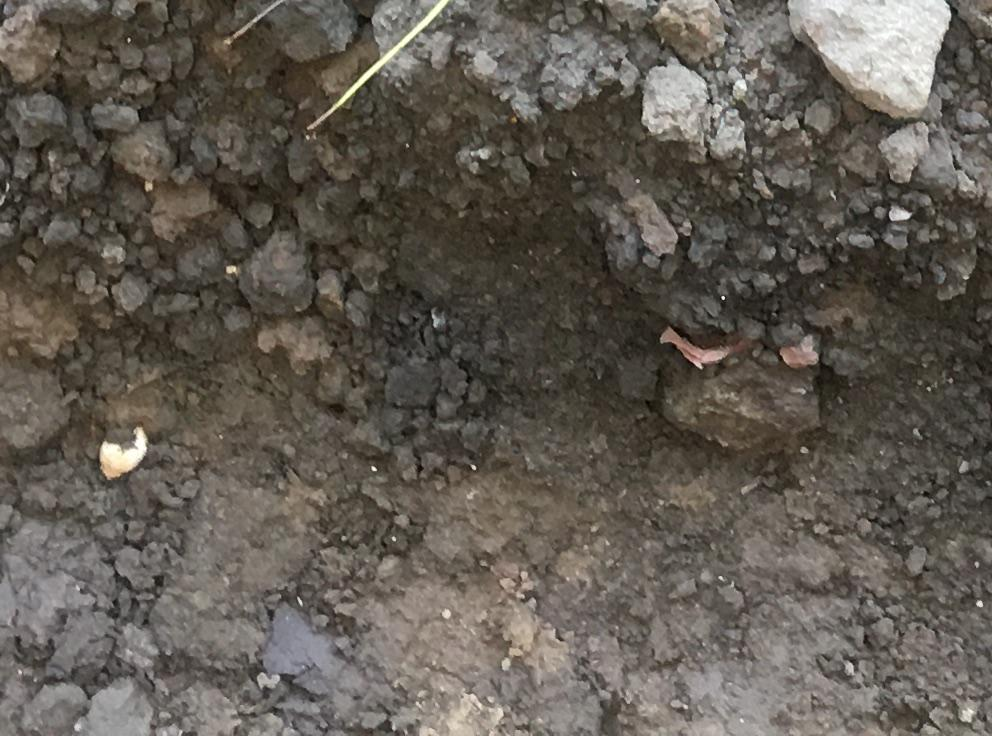block: (790, 1, 955, 119), (656, 342, 830, 453), (646, 58, 713, 165)
